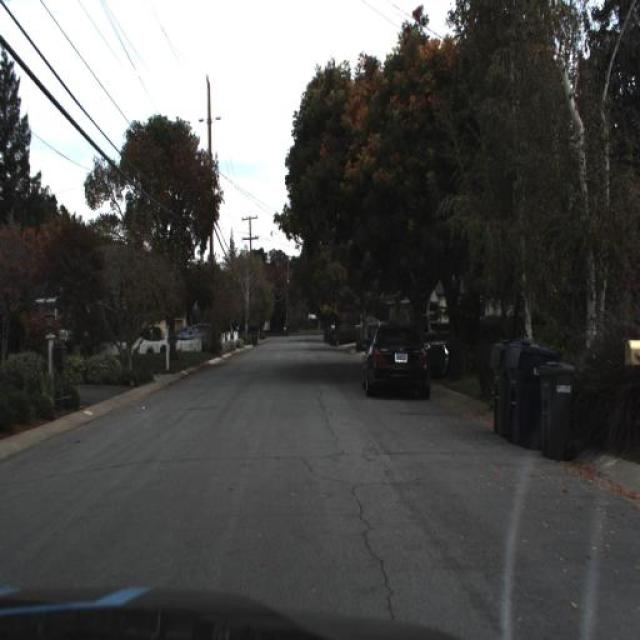car: (357, 317, 434, 407), (362, 322, 431, 407)
